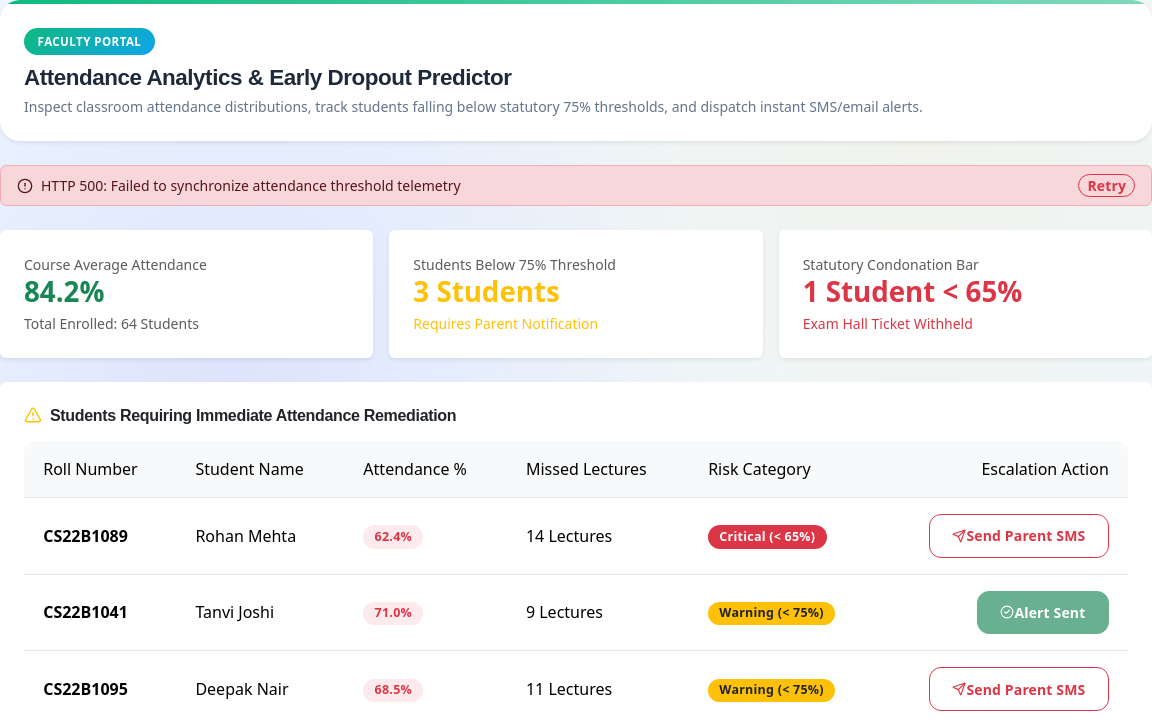
Test: Faculty Attendance Analytics Page › handles audit sync failure and allows retry
This screenshot has width=1152, height=720.
Expected: the element with test id "attendance-analytics-error" is shown, [0,165,1151,206]
Step 1. Click the button with test id "attendance-analytics-retry" → x=1107, y=186, box [1078,174,1135,197]
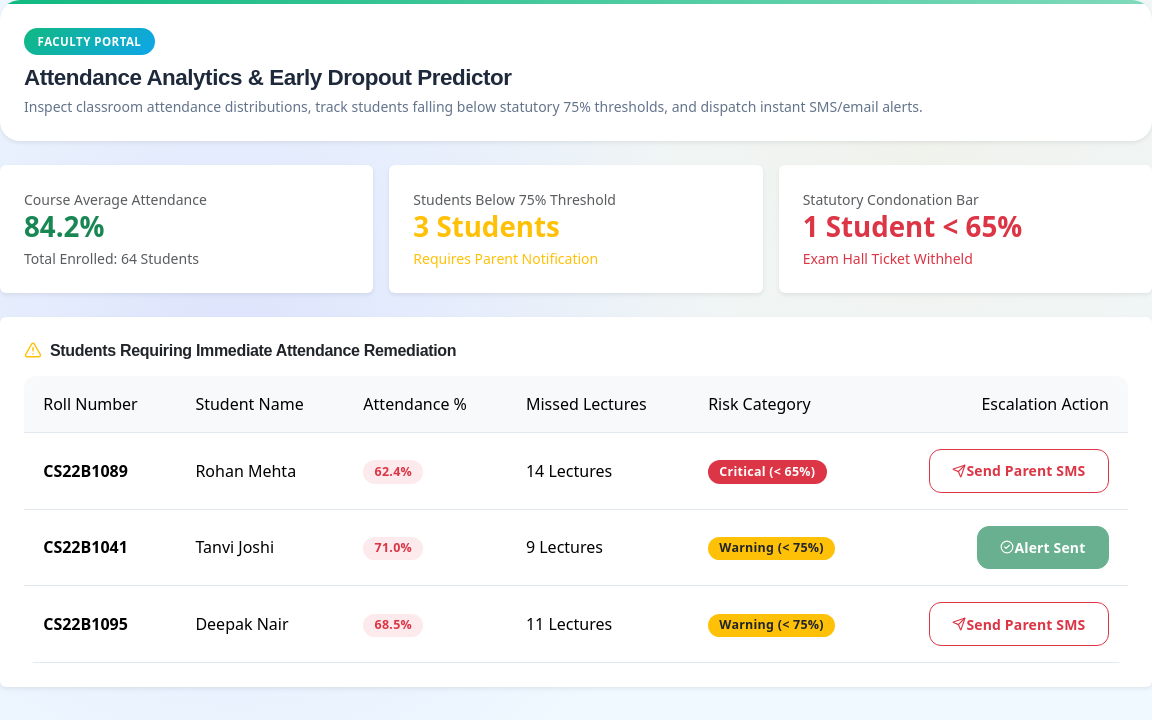
Expected: the element with test id "attendance-analytics-error" is gone
